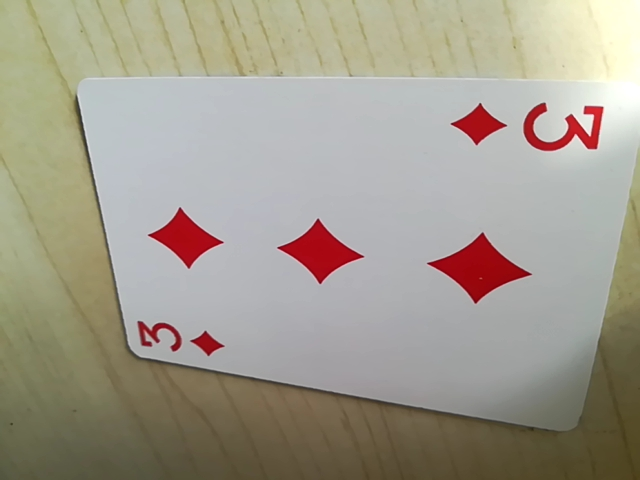fk 3: (451, 96, 601, 159), (127, 312, 230, 364)
